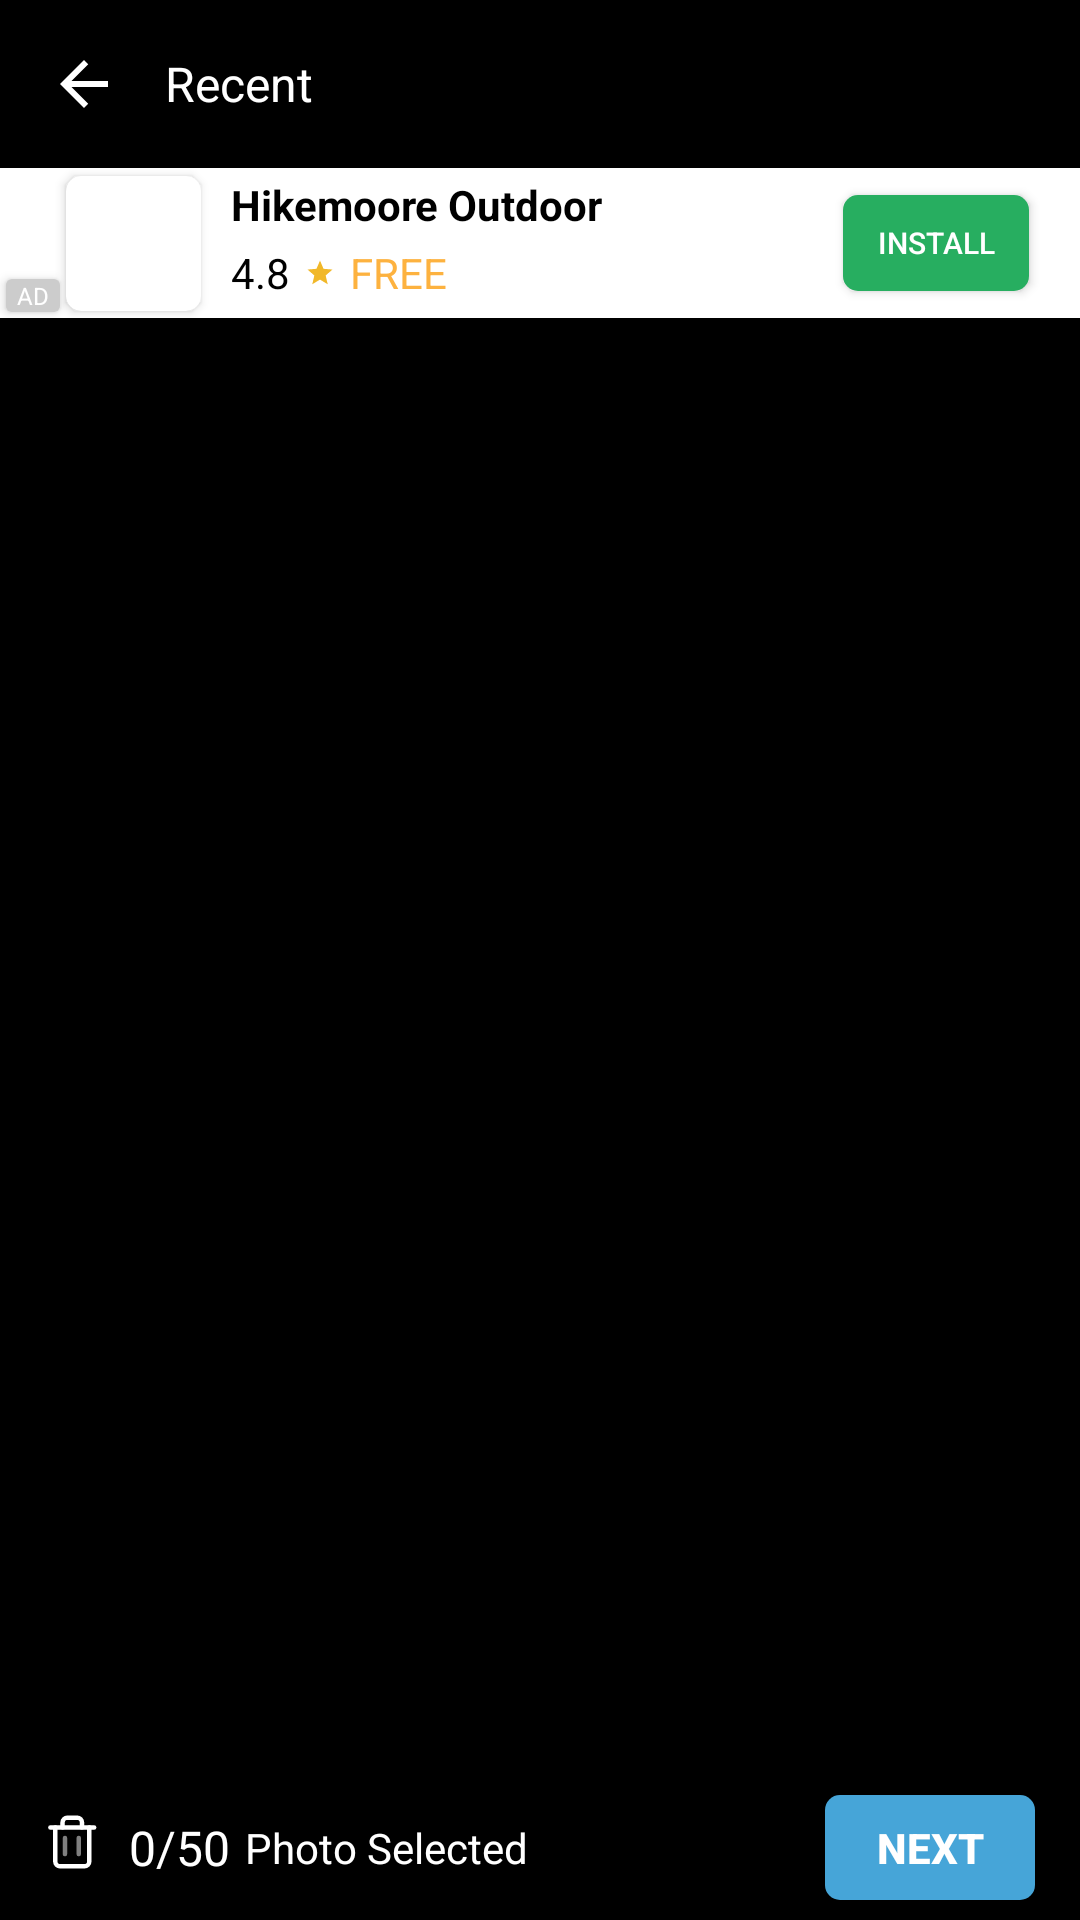

Where to tap for icons on this 1080px×1920px app screen, as [x,y]:
arrow back: [84,84]
delete: [72,1842]
star: [320,272]
